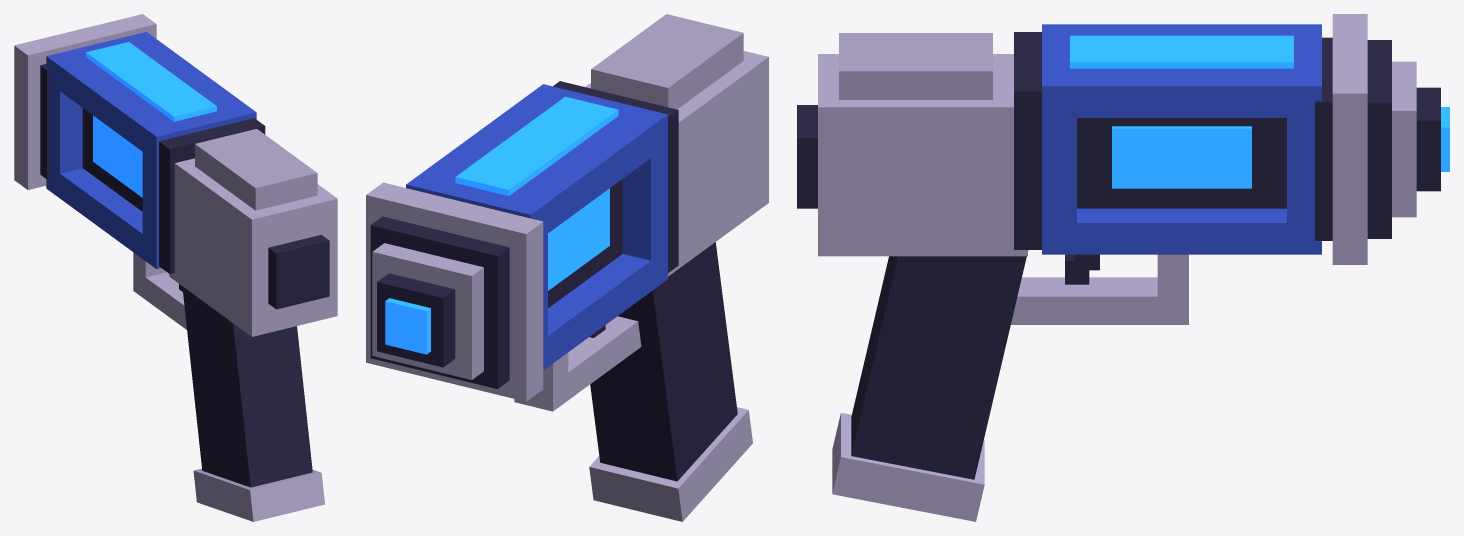
Rendered from multi_tool.lod1.glb.
3 views of the same model, side by side, from view 1: azimuth 30°, elevation 25°; view 2: azimuth 150°, elevation 25°; view 3: azimuth 270°, elevation 25° (orthographic). The views are drawn at different scales.
Visible parts, largest first — view 1: item.multi_tool.body, part.head; view 2: item.multi_tool.body, part.head; view 3: item.multi_tool.body, part.head.
Boxes of the visible parts, x1=… form: item.multi_tool.body: x1=46, y1=32, x2=337, y2=521; part.head: x1=14, y1=14, x2=156, y2=189; item.multi_tool.body: x1=406, y1=14, x2=768, y2=521; part.head: x1=366, y1=182, x2=543, y2=401; item.multi_tool.body: x1=797, y1=24, x2=1321, y2=521; part.head: x1=1315, y1=14, x2=1449, y2=264.
Size of the model in its own units: 0.1686 by 0.4441 by 0.5828.
